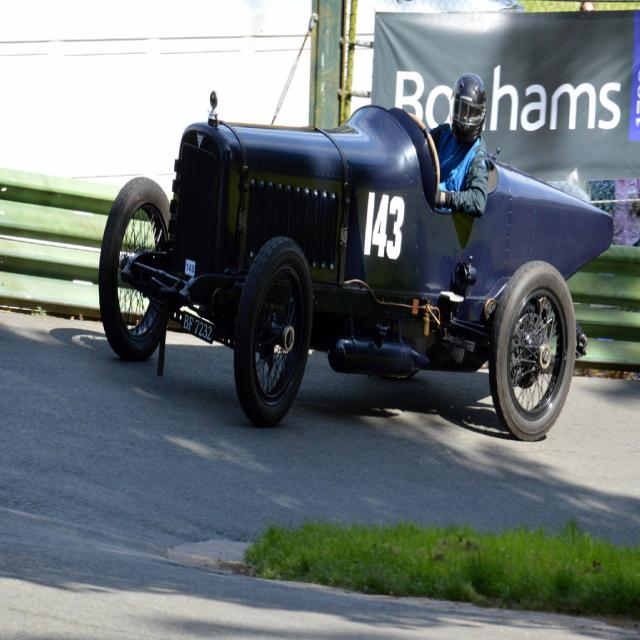car: (96, 100, 614, 420)
